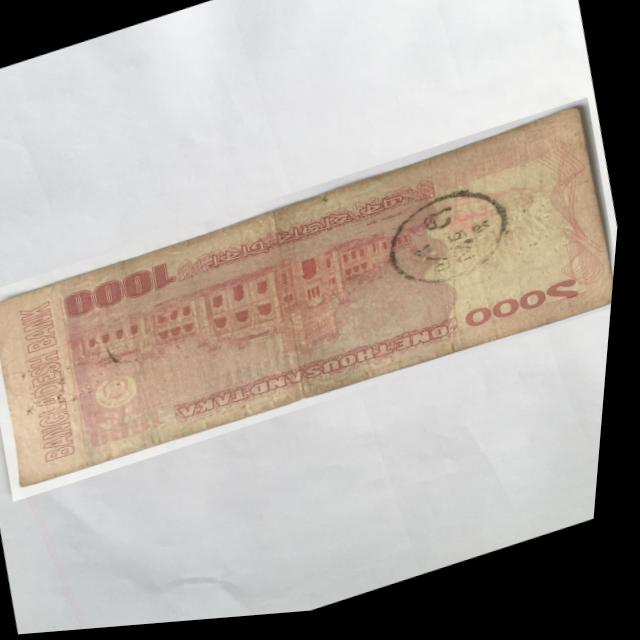Taka: (0, 104, 631, 505)
